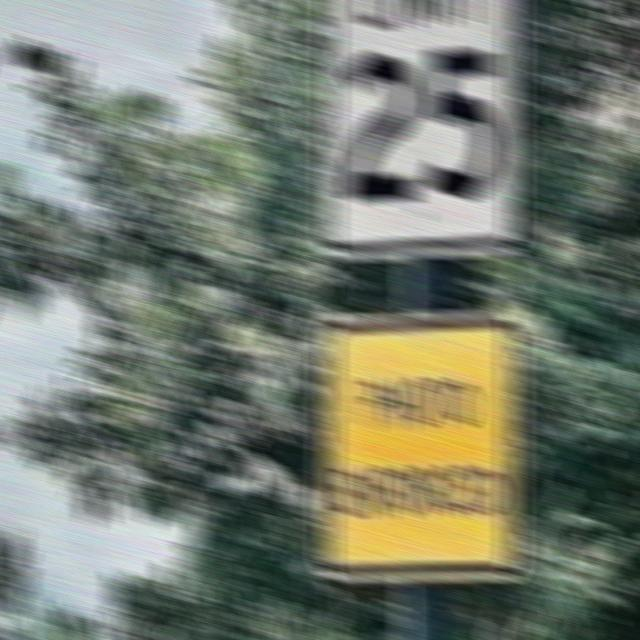speedLimit25: (324, 3, 521, 245)
